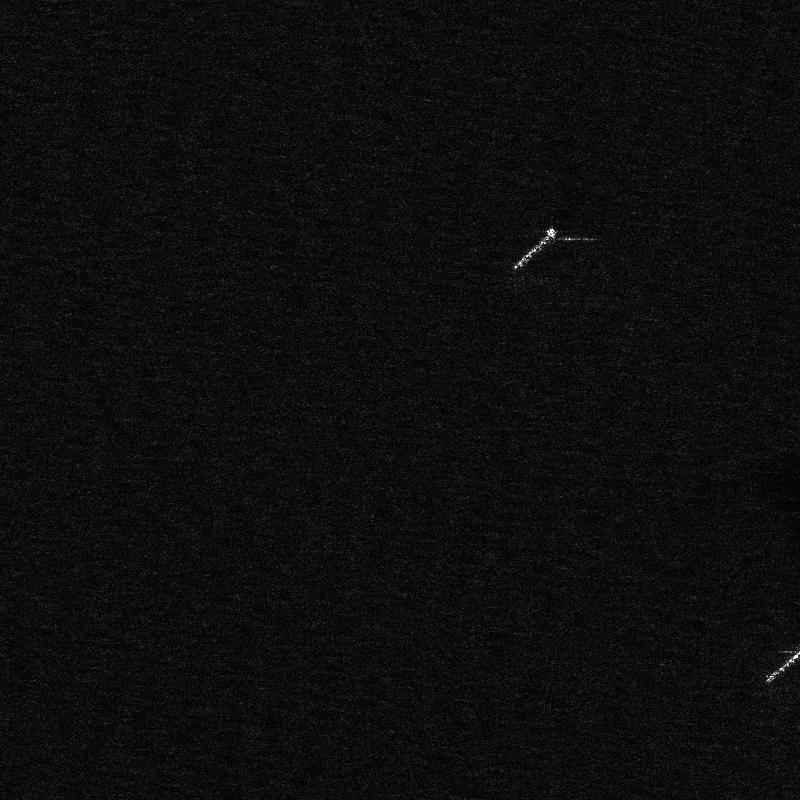ship: (513, 228, 556, 270), (766, 644, 799, 682)
